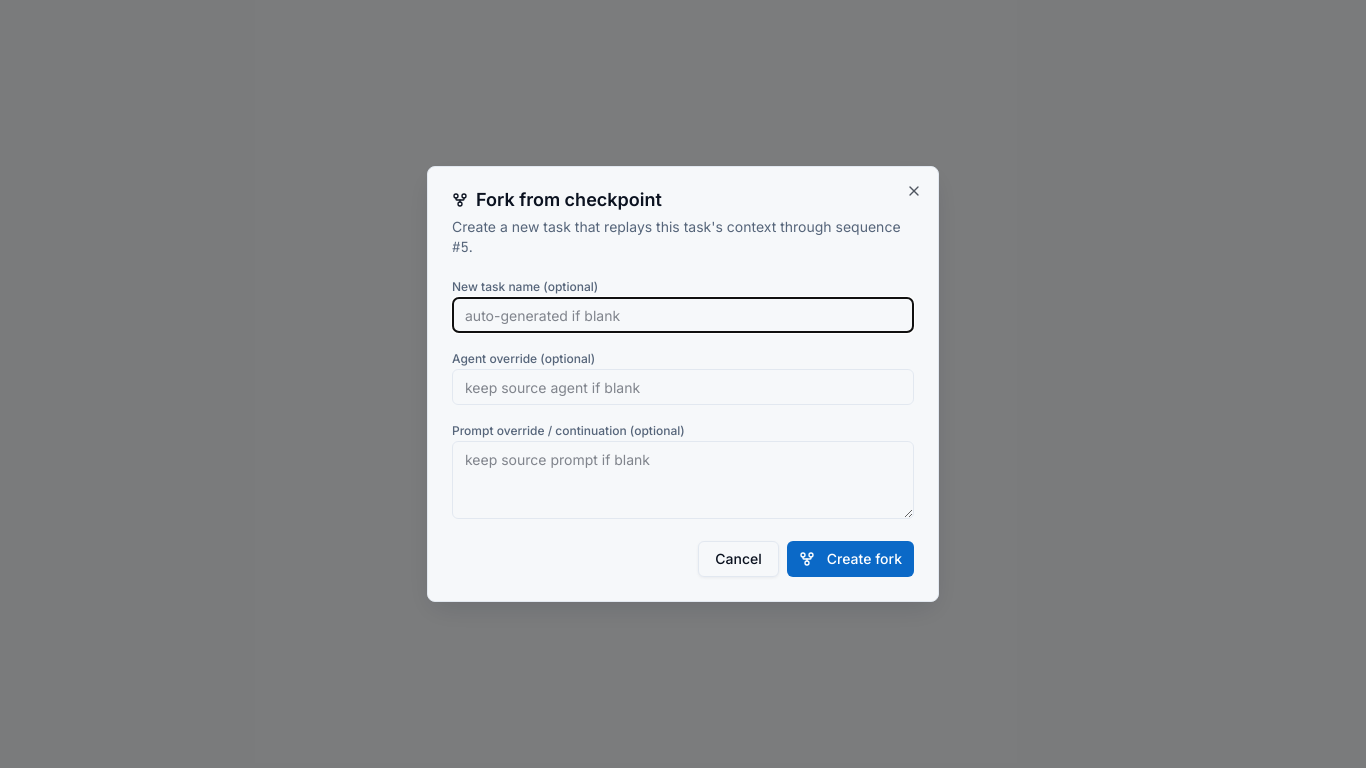
Scenario: ForkDialog › submits the fork with the selected afterSeq and shows the new task link
The image size is (1366, 768).
Click the button "Create fork" at (850, 559), box [787,541,914,577]
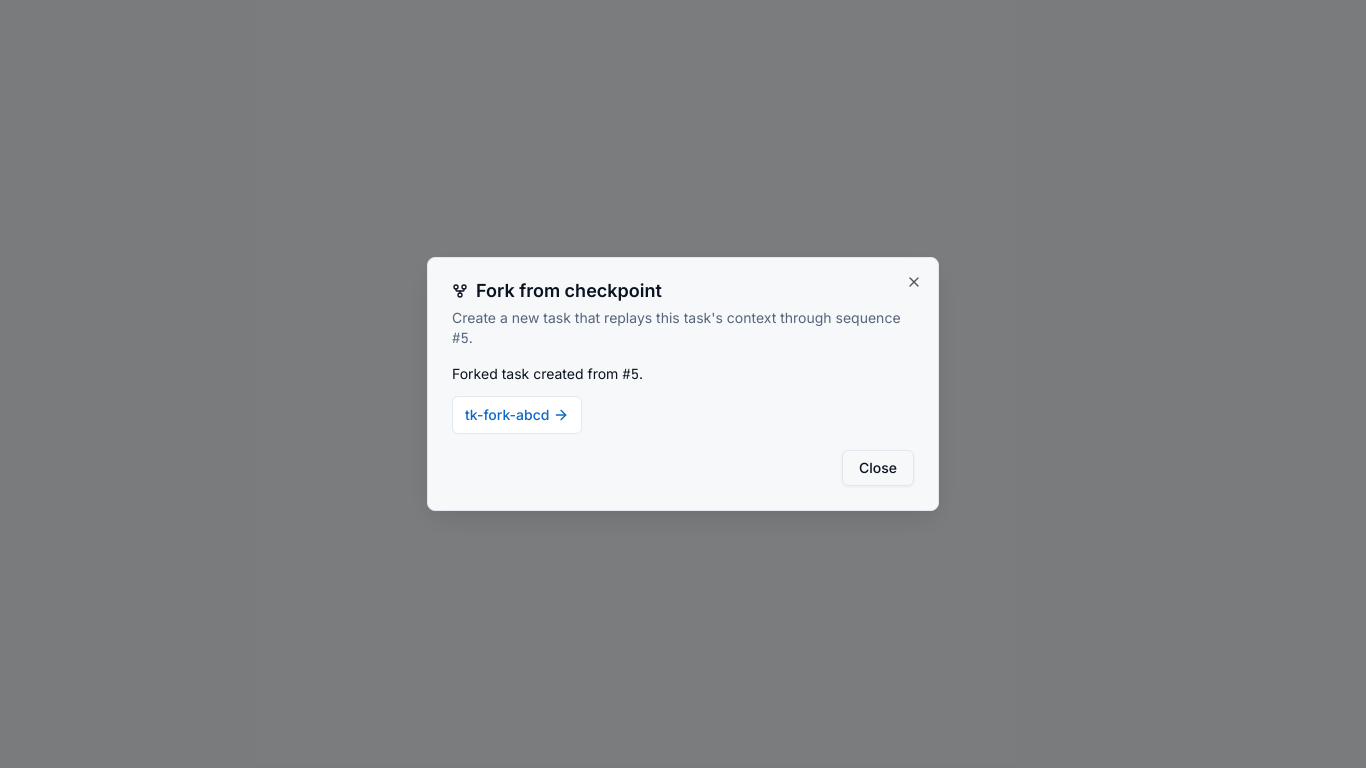
Result: the link "tk-fork-abcd" is shown at [452,396,582,434]
